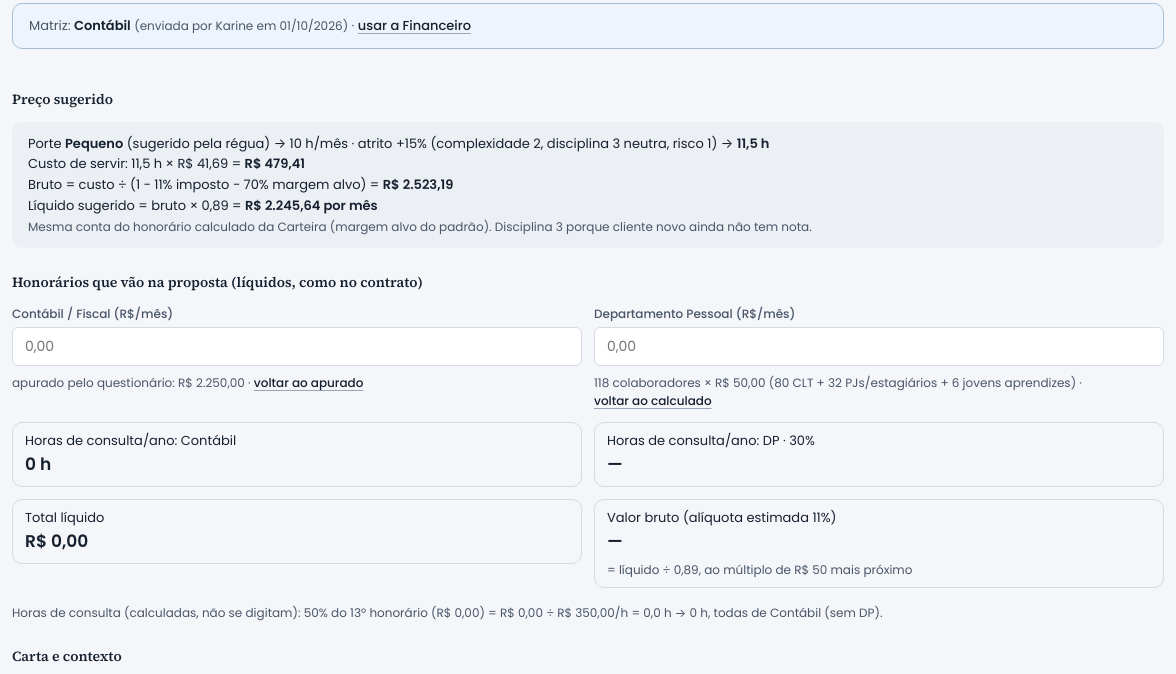
Scenario: aba Proposta › gera, baixa e mostra a proposta gerada
Type "1600" into the field labelled "Contábil / Fiscal (R$/mês)" at x=297, y=346, box [12,327,582,366]
(page scrolled)
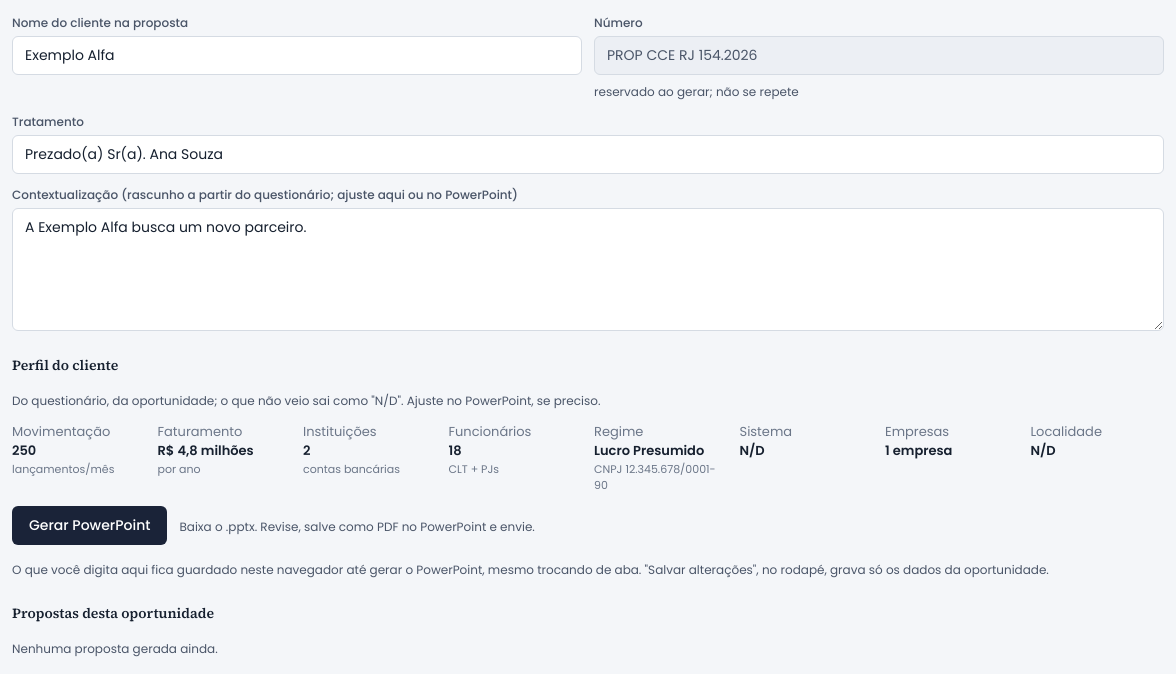
Click the button "Gerar PowerPoint" at x=90, y=525, box [12,506,167,545]
(page scrolled)
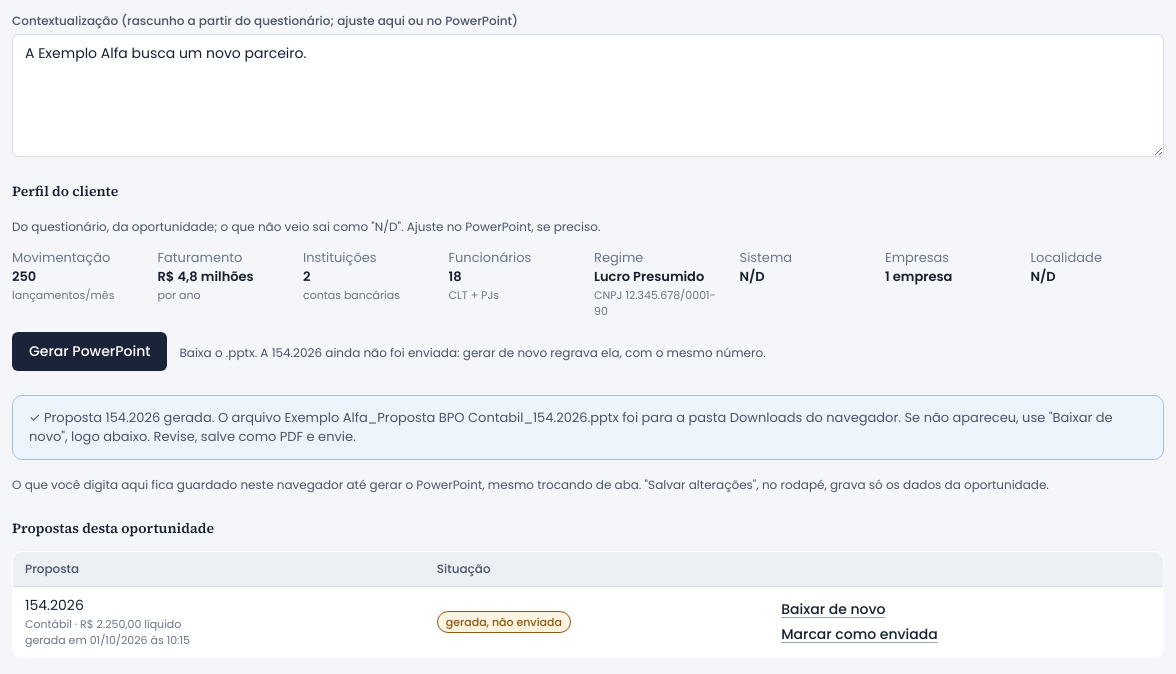
Result: the message shows "Proposta 154.2026 gerada" at [29,408,1113,446]
Result: the row that starts with "Contábil" shows "gerada, não enviada" at [446,614,562,630]
